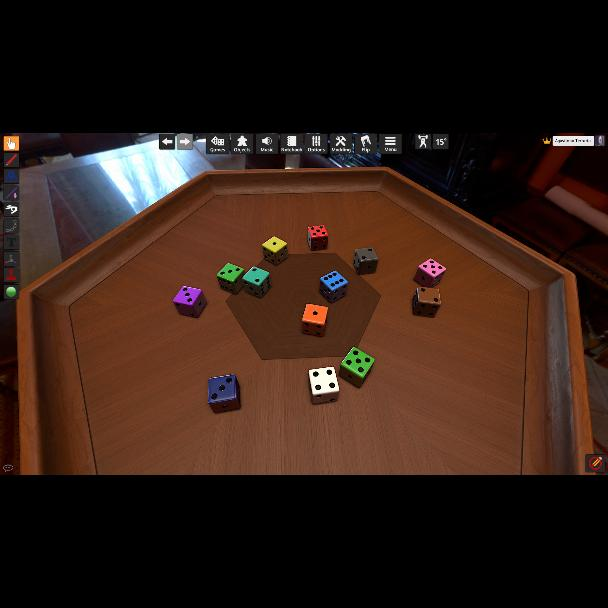d6: (340, 347, 375, 385), (208, 374, 240, 413), (309, 366, 340, 406), (172, 286, 206, 318), (413, 258, 445, 290), (319, 270, 347, 304), (241, 266, 270, 298), (217, 263, 245, 295), (412, 286, 440, 318), (302, 304, 327, 336), (352, 247, 378, 275), (262, 236, 286, 266), (307, 225, 327, 251)
